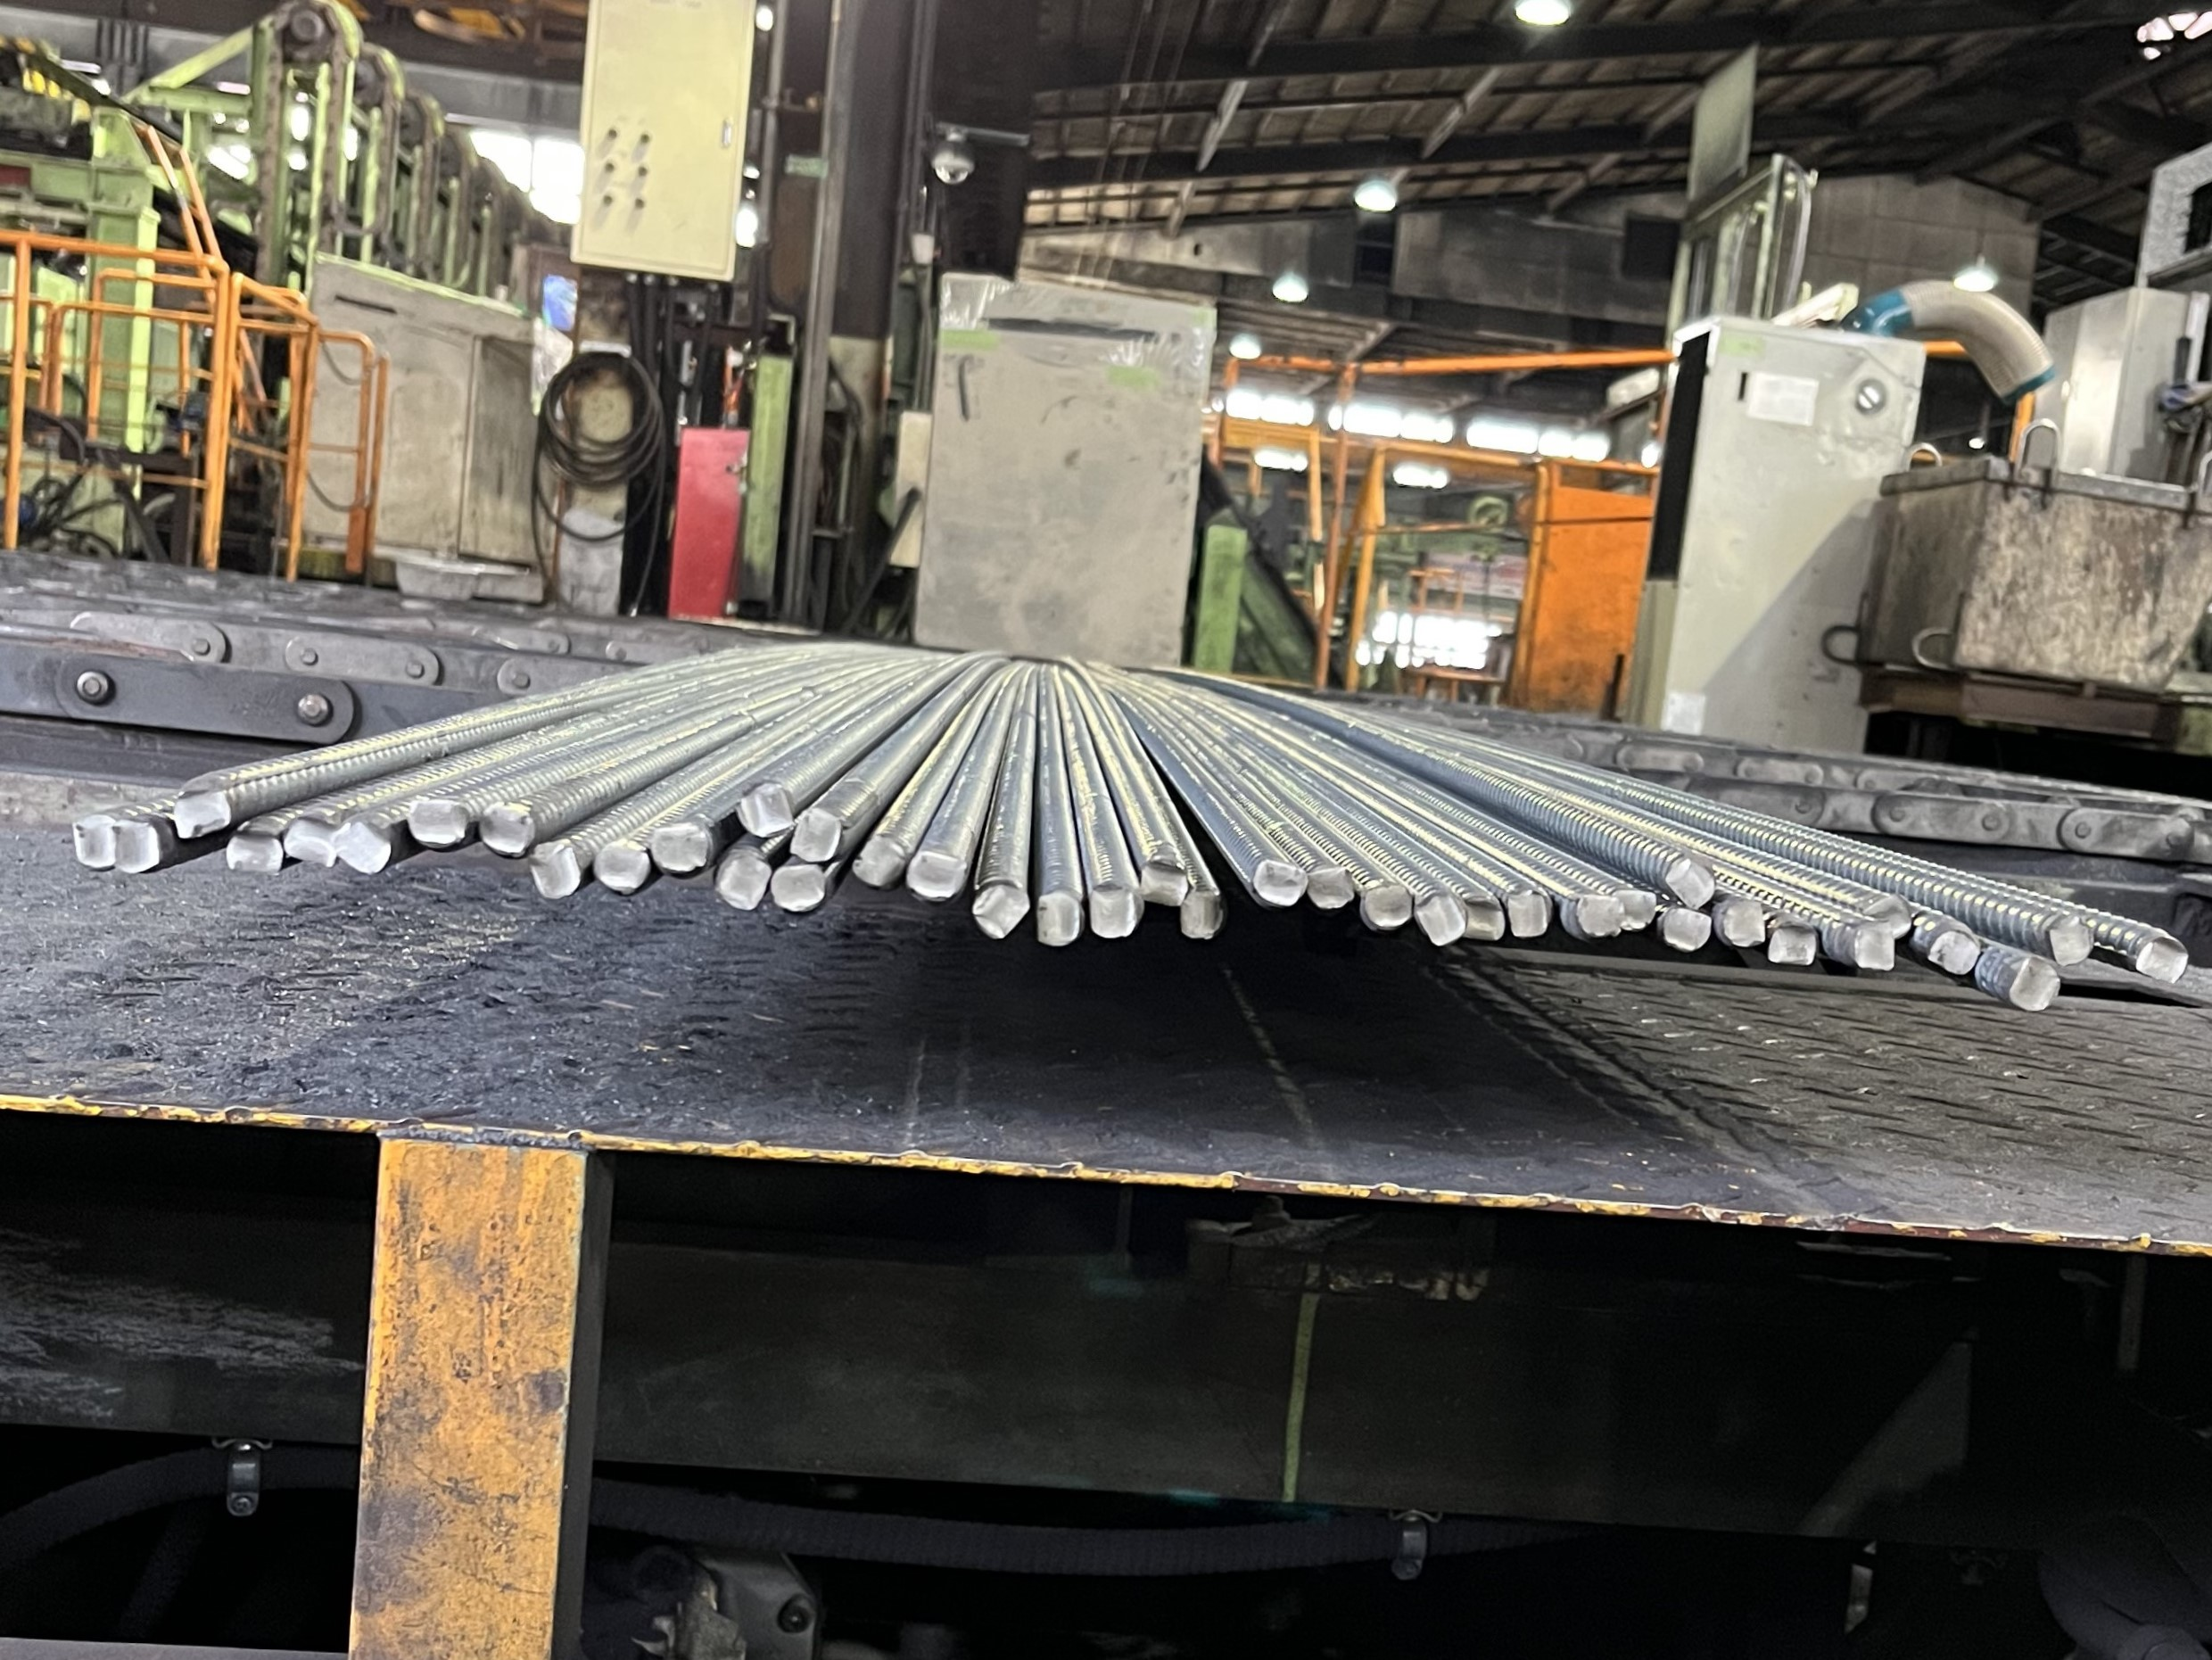rod: (476, 799, 539, 860), (331, 814, 392, 875), (971, 879, 1030, 942), (591, 837, 652, 896), (650, 820, 713, 877), (906, 847, 969, 905), (737, 779, 797, 839), (1088, 881, 1147, 940), (1659, 851, 1719, 910), (716, 853, 774, 914), (788, 802, 845, 863), (2006, 952, 2064, 1013), (112, 816, 167, 877), (282, 813, 338, 874), (406, 797, 469, 851), (530, 837, 584, 900), (1558, 893, 1626, 942), (173, 786, 234, 840), (1035, 888, 1088, 950), (1414, 889, 1469, 947), (2132, 933, 2193, 985), (851, 833, 905, 891), (769, 863, 826, 915), (223, 828, 286, 875), (1358, 882, 1415, 933), (1178, 888, 1231, 942), (1658, 905, 1712, 957), (1713, 898, 1768, 950), (2046, 912, 2097, 968), (1252, 858, 1309, 907), (1924, 928, 1982, 976), (1503, 889, 1555, 942), (1140, 854, 1191, 907), (1764, 921, 1818, 969), (1851, 917, 1896, 973), (1862, 893, 1912, 942), (1611, 886, 1659, 935), (1461, 893, 1508, 943), (71, 813, 112, 872), (1306, 867, 1356, 912)
